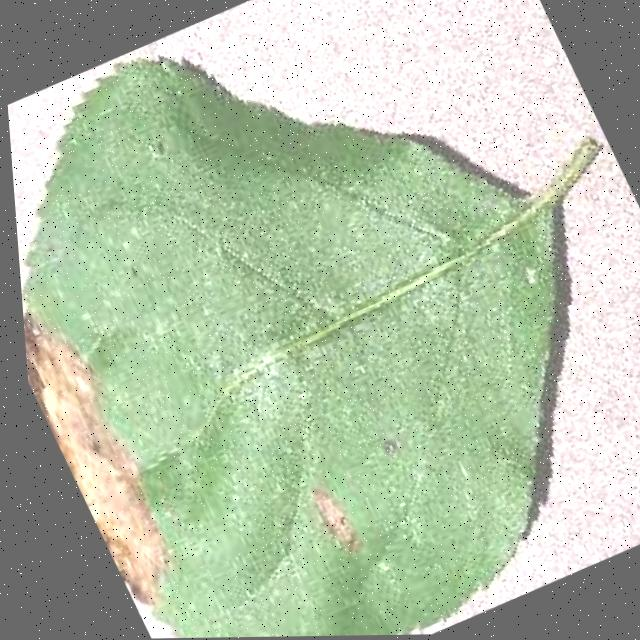black_rot: (20, 271, 215, 626), (288, 474, 370, 572)
